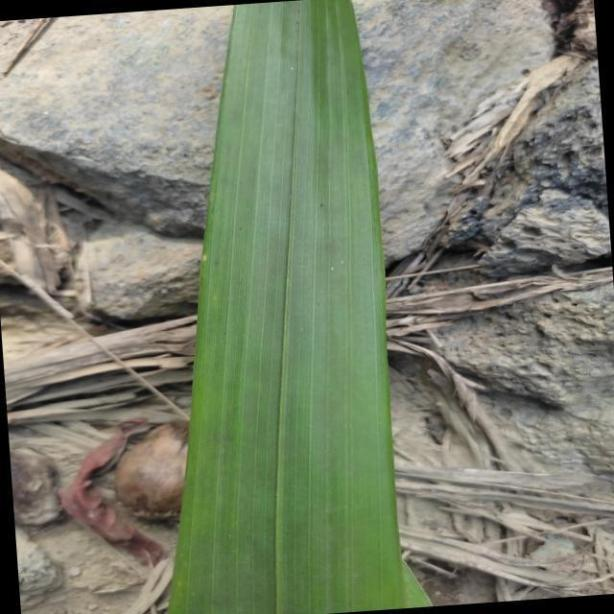Healthy: (166, 0, 403, 614)
